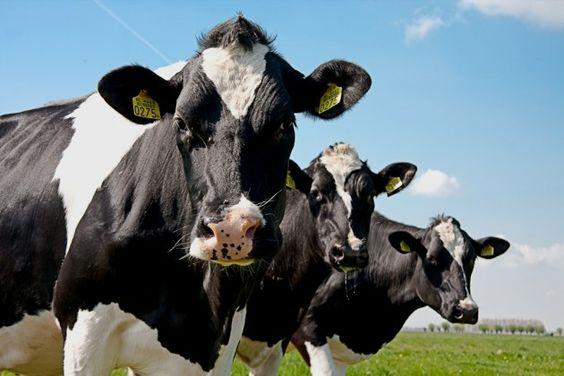cow: (59, 18, 338, 309)
